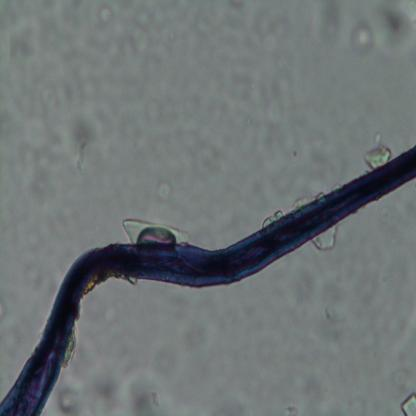Background material: (21, 164, 55, 278), (298, 276, 348, 352), (0, 8, 42, 83), (61, 110, 103, 169), (121, 368, 170, 416), (119, 215, 191, 246), (378, 16, 416, 58), (182, 318, 214, 355), (55, 376, 82, 412), (352, 18, 377, 56), (313, 229, 341, 252), (159, 347, 178, 374), (155, 179, 174, 202), (368, 148, 390, 167), (98, 5, 111, 23)
Cotton: (0, 145, 416, 414)
